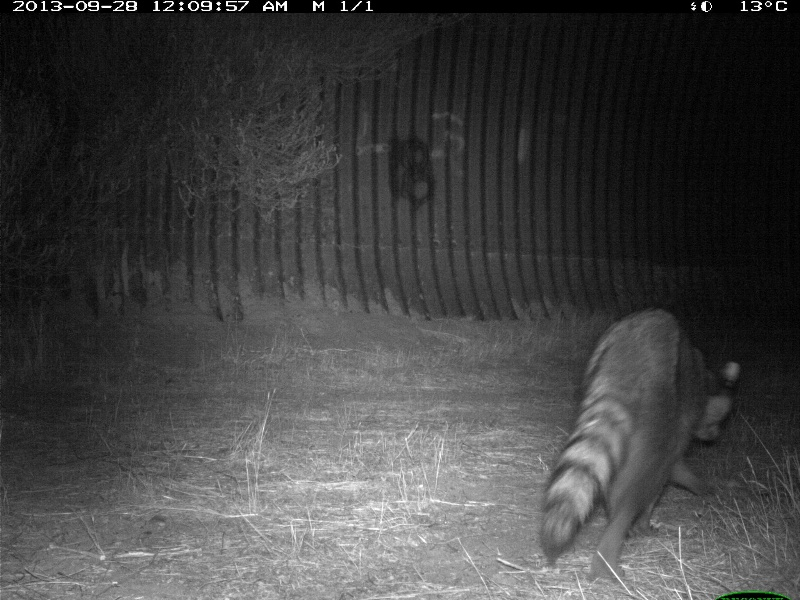raccoon: (538, 305, 745, 577)
